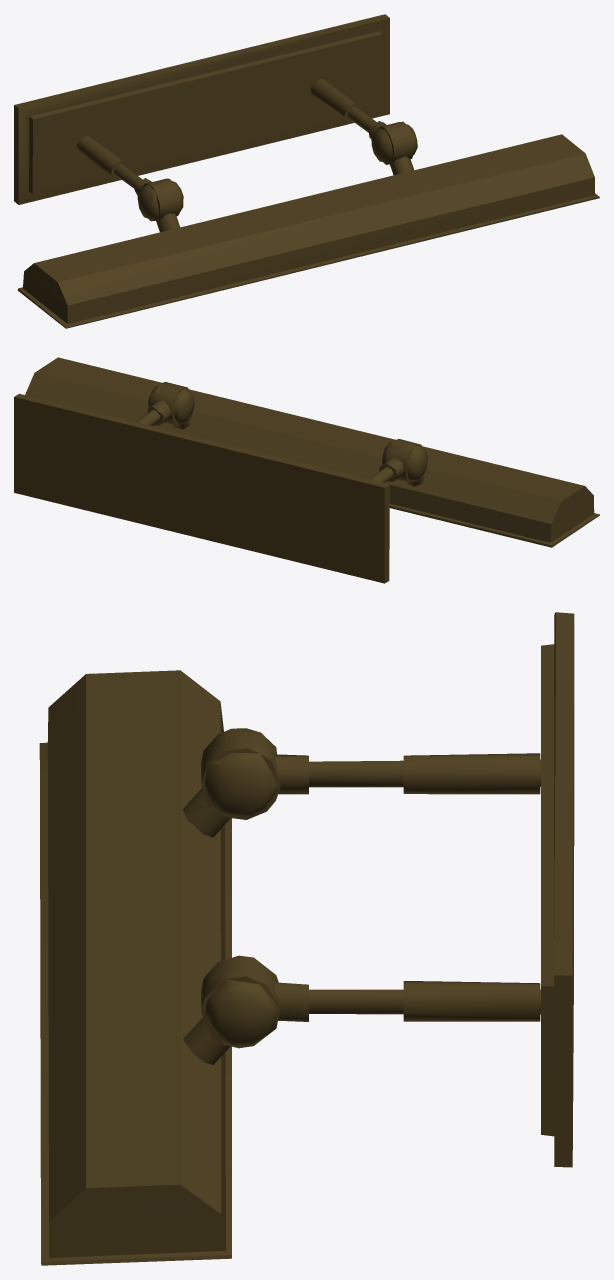
Rendered from Wall lamp.FBX.
The picture shows the model from 3 angles, top to bottom: view 1: azimuth 30°, elevation 25°; view 2: azimuth 150°, elevation 25°; view 3: azimuth 270°, elevation 25°; orthographic projection. The views are drawn at different scales.
Visible parts, largest first — view 1: wall lamp; view 2: wall lamp; view 3: wall lamp.
Boxes of the visible parts, x1=… form: wall lamp: x1=14, y1=14, x2=599, y2=328; wall lamp: x1=14, y1=357, x2=599, y2=583; wall lamp: x1=39, y1=612, x2=574, y2=1265.
Bounding box in the file's own units: 51.64 × 9.88 × 22.4.
